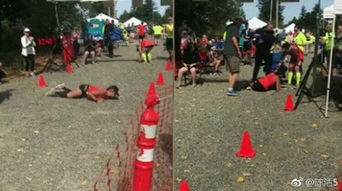10+: (14, 13, 342, 112)
down: (46, 81, 120, 106), (248, 66, 288, 90)
